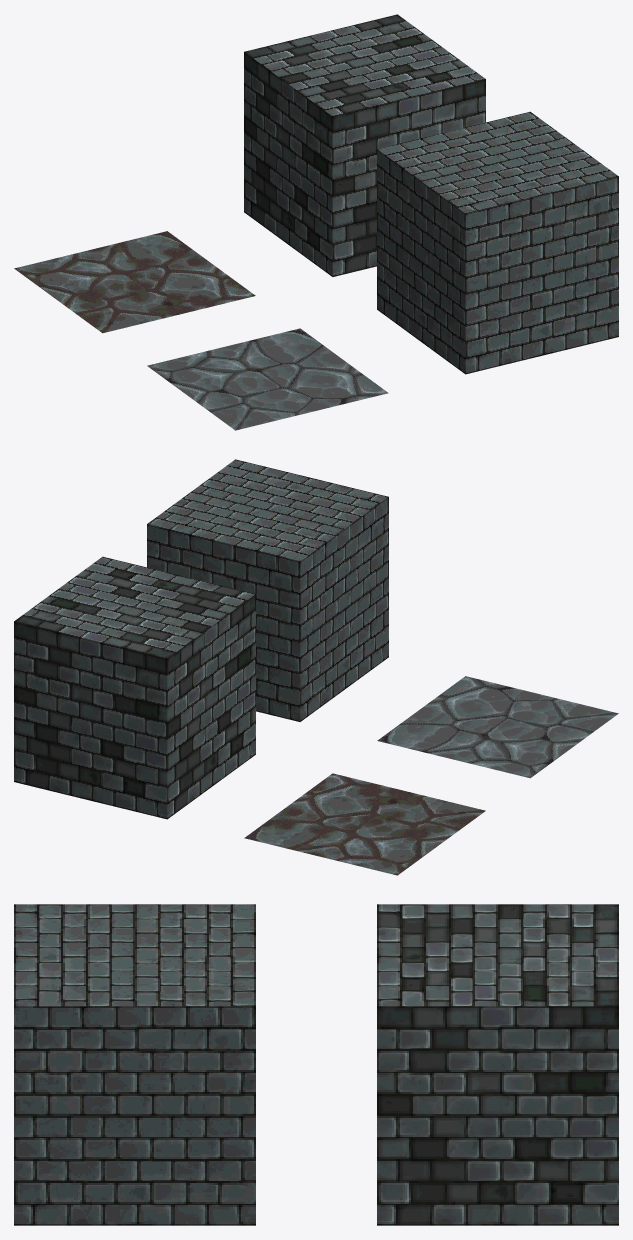
Rendered from tiles.gltf.
The picture shows the model from 3 angles, top to bottom: view 1: azimuth 30°, elevation 25°; view 2: azimuth 150°, elevation 25°; view 3: azimuth 270°, elevation 25°; orthographic projection. The views are drawn at different scales.
Visible parts, largest first — view 1: wall01-col, wall02-col, floor02-col, floor01-col; view 2: wall02-col, wall01-col, floor01-col, floor02-col; view 3: wall01-col, wall02-col.
Boxes of the visible parts, x1=… form: wall01-col: x1=377, y1=111, x2=618, y2=374; wall02-col: x1=244, y1=14, x2=485, y2=276; floor02-col: x1=14, y1=231, x2=255, y2=333; floor01-col: x1=147, y1=328, x2=388, y2=430; wall02-col: x1=14, y1=556, x2=255, y2=819; wall01-col: x1=147, y1=459, x2=388, y2=721; floor01-col: x1=377, y1=676, x2=618, y2=778; floor02-col: x1=244, y1=773, x2=485, y2=875; wall01-col: x1=14, y1=904, x2=255, y2=1225; wall02-col: x1=377, y1=904, x2=618, y2=1225.
Bounding box in the file's own units: 5 × 2 × 5.
1 material, 1 textured.
